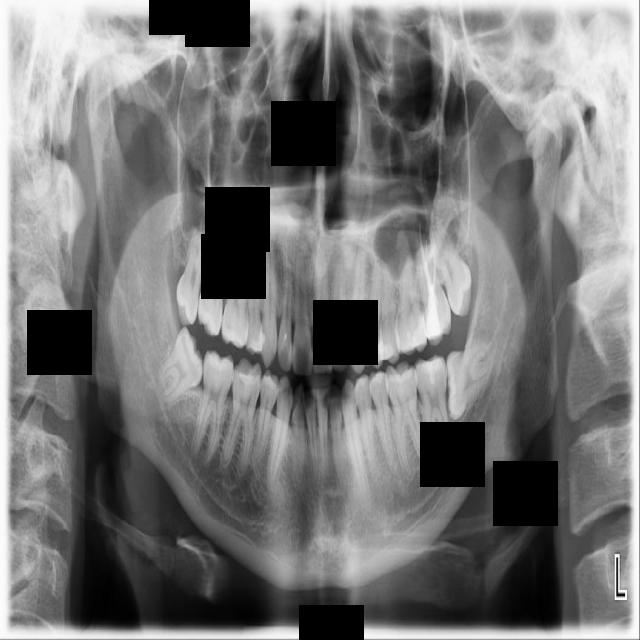3M ESPE Implant: (171, 226, 209, 327)
52: (416, 291, 456, 348), (412, 354, 451, 398)
73: (406, 221, 445, 305), (615, 564, 618, 576)
BioHorizons Implant: (410, 219, 454, 348)
BioLife Implant: (425, 211, 481, 320)
Biomet 3i Implant: (443, 338, 499, 422)
Blue Sky Bio Implant: (413, 354, 454, 466)
Caries: (194, 227, 231, 338)
Implant: (192, 350, 237, 465)
Keystone Dental Implant: (146, 325, 221, 413)
